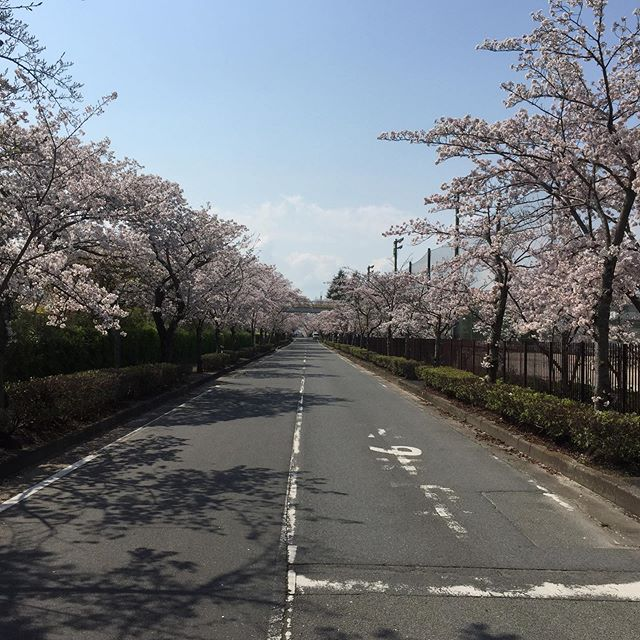sky: (76, 1, 510, 225)
street: (1, 335, 592, 640)
vegetation: (325, 101, 640, 372), (1, 150, 301, 413)
